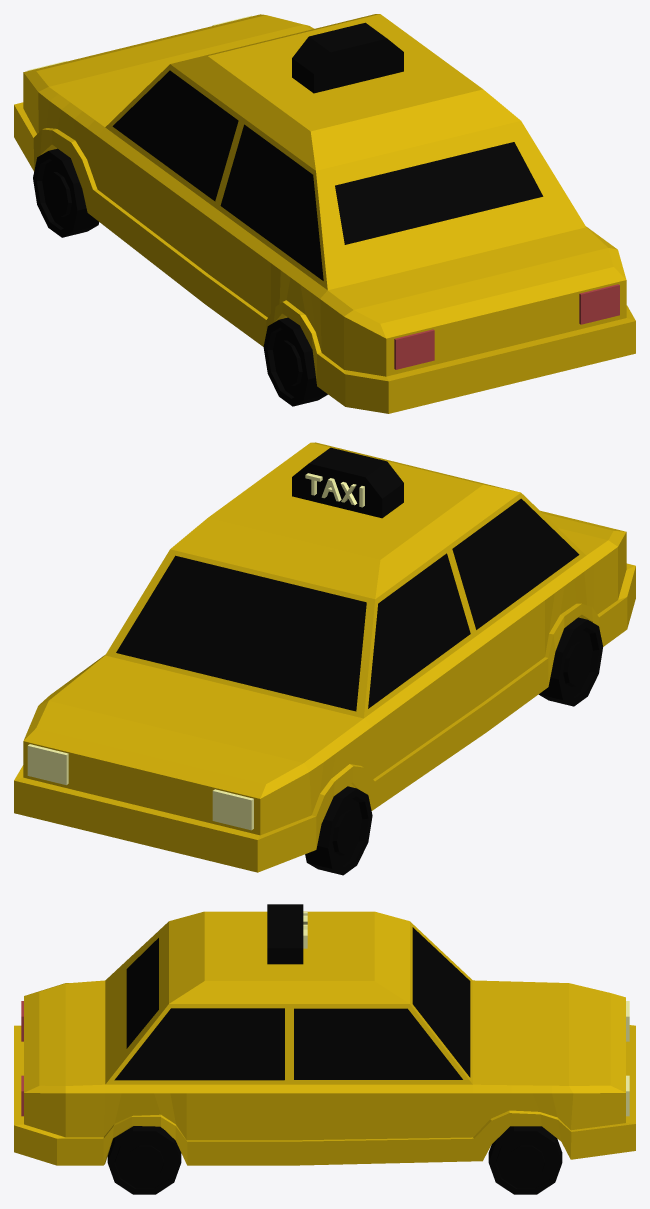
Rendered from taxi.fbx.
The picture shows the model from 3 angles, top to bottom: view 1: azimuth 30°, elevation 25°; view 2: azimuth 150°, elevation 25°; view 3: azimuth 270°, elevation 25°; orthographic projection. The views are drawn at different scales.
Visible parts, largest first — view 1: taxo; view 2: taxo; view 3: taxo.
Part boxes in pixels (x1,y1,x2,y2): taxo: (14, 14, 635, 413); taxo: (14, 442, 635, 875); taxo: (14, 904, 635, 1194).
Size of the model in its own units: 129 by 111 by 285.
